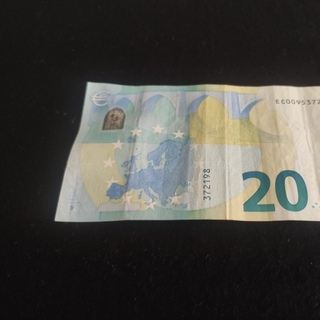20EUROBack: (53, 82, 320, 222)
